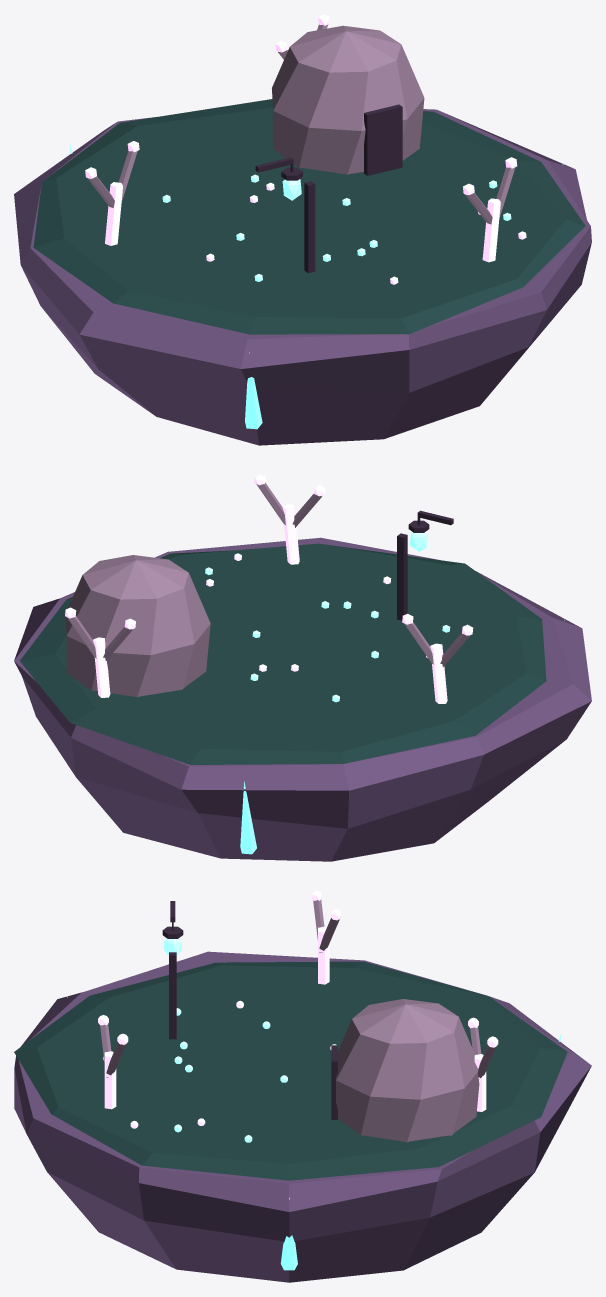
Rendered from ilot_corail_modele.glb.
3 renders of one model, top to bottom at view 1: azimuth 30°, elevation 25°; view 2: azimuth 150°, elevation 25°; view 3: azimuth 270°, elevation 25°, orthographic. The views are drawn at different scales.
Parts seen in each view (by area): view 1: L3.006, L1.010, L39, P41.005, P46.005, P21.013, P31.008, P38.007; view 2: L3.006, L1.010, L39, P46.005, P21.013, P31.008, P26.014, P37.007; view 3: L3.006, L1.010, L39, P46.005, P21.013, P31.008.
Part boxes in pixels (box(x1,y1,x2,y2)): L3.006: box(33, 99, 585, 334); L1.010: box(14, 109, 591, 445); L39: box(272, 25, 424, 174); P41.005: box(364, 104, 402, 175); P46.005: box(304, 181, 315, 273); P21.013: box(482, 198, 500, 262); P31.008: box(105, 182, 122, 245); P38.007: box(245, 352, 262, 429); L3.006: box(20, 543, 546, 764); L1.010: box(14, 537, 591, 861); L39: box(65, 555, 210, 697); P46.005: box(397, 533, 407, 620); P21.013: box(282, 504, 299, 564); P31.008: box(430, 643, 447, 703); P26.014: box(93, 637, 110, 697); P37.007: box(240, 781, 256, 854); L3.006: box(14, 961, 567, 1180); L1.010: box(14, 951, 591, 1282); L39: box(335, 999, 479, 1142); P46.005: box(169, 952, 176, 1039); P21.013: box(104, 1051, 116, 1109); P31.008: box(318, 926, 329, 984).
Size of the model in its own units: 4.63 by 2.09 by 4.47.
